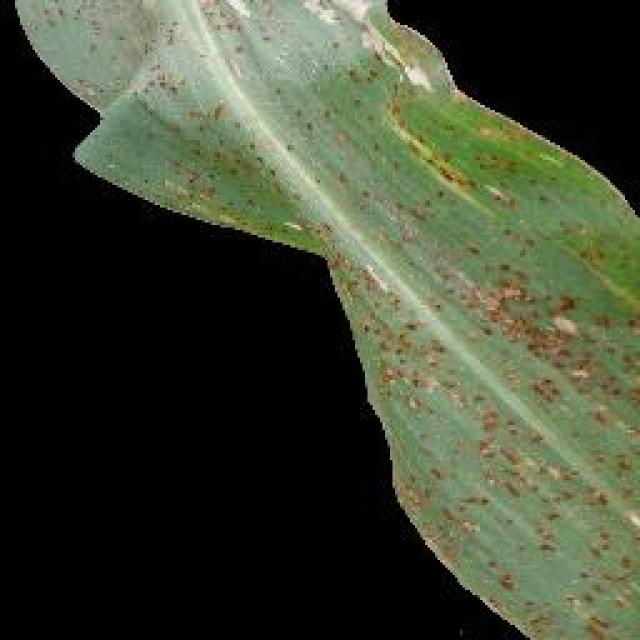Corn___Common_rust: (198, 0, 638, 551)
